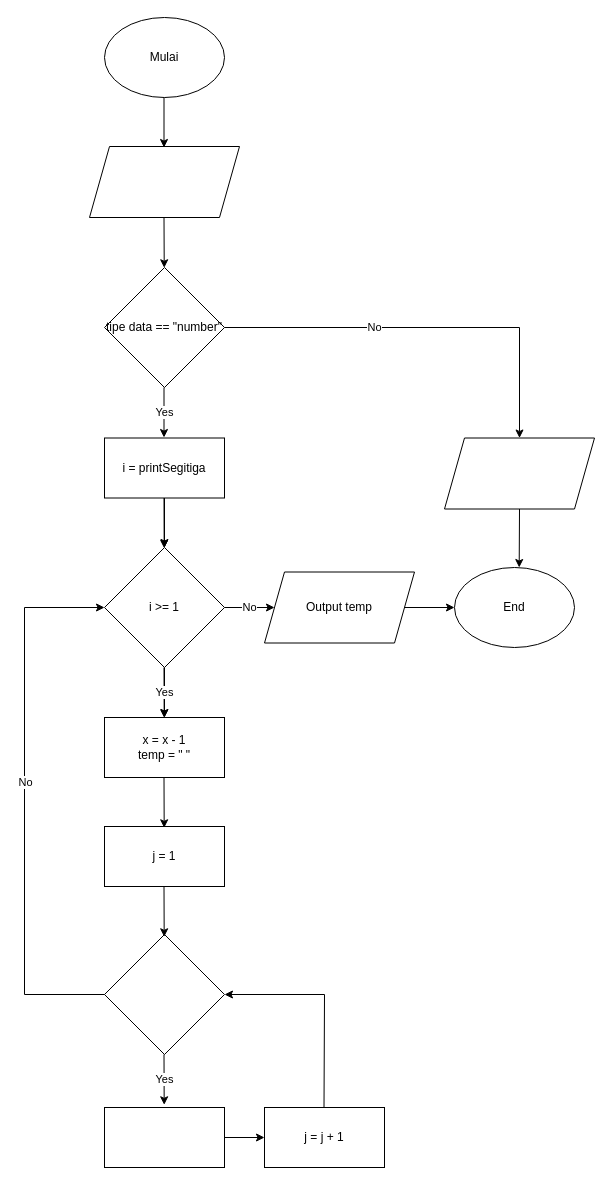
Image size: 612x1185. Some labels were removed from this diagram. Here are the shapes that lost their labels. From the top down, the centre of each, then its label:
[164,182]: Input printSegitiga = 5
[519,473]: Output "Data harus Number"
[164,994]: j <= i
[164,1137]: temp += j + " "
